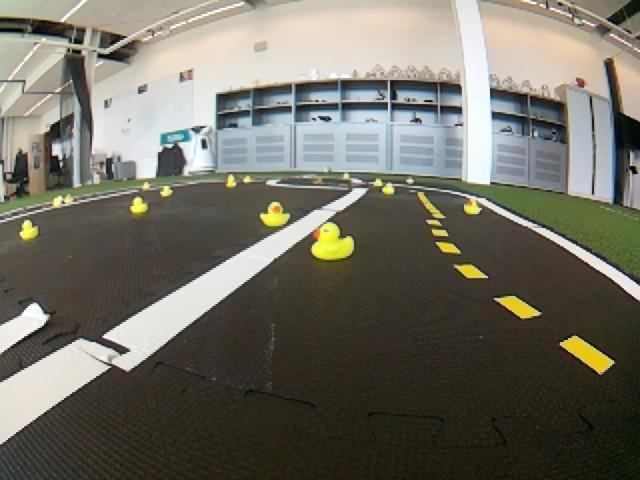Duckies: (310, 222, 353, 260), (259, 201, 290, 226), (129, 196, 149, 215), (19, 220, 38, 240), (463, 198, 481, 214), (160, 185, 173, 197), (382, 182, 395, 194), (227, 173, 237, 187), (53, 195, 63, 208), (373, 178, 384, 187), (63, 194, 72, 204), (141, 182, 150, 189), (313, 176, 322, 183), (406, 177, 414, 183), (343, 172, 349, 179), (244, 177, 252, 182)
